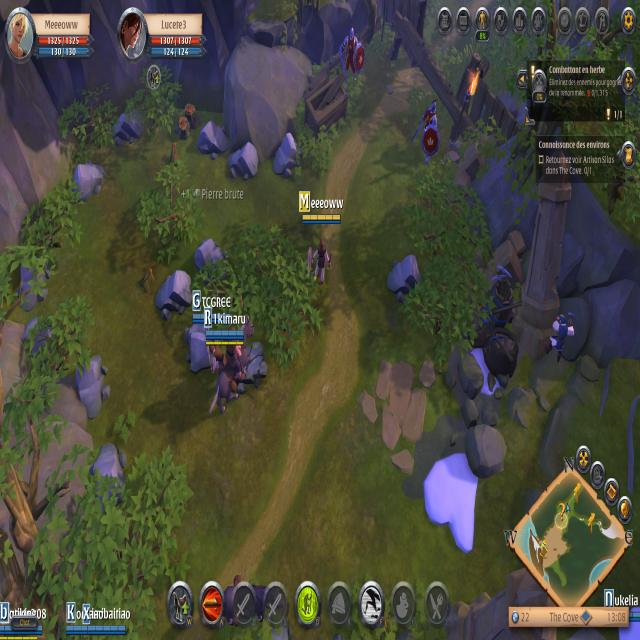broken stone: (240, 342, 270, 390)
stone: (72, 350, 112, 424), (89, 434, 128, 507), (153, 268, 194, 319), (18, 254, 50, 311), (193, 234, 229, 283), (23, 316, 54, 372), (387, 253, 422, 302), (271, 132, 305, 181), (195, 114, 229, 163), (72, 157, 107, 204), (183, 316, 211, 372), (226, 140, 260, 183), (109, 108, 145, 148)
